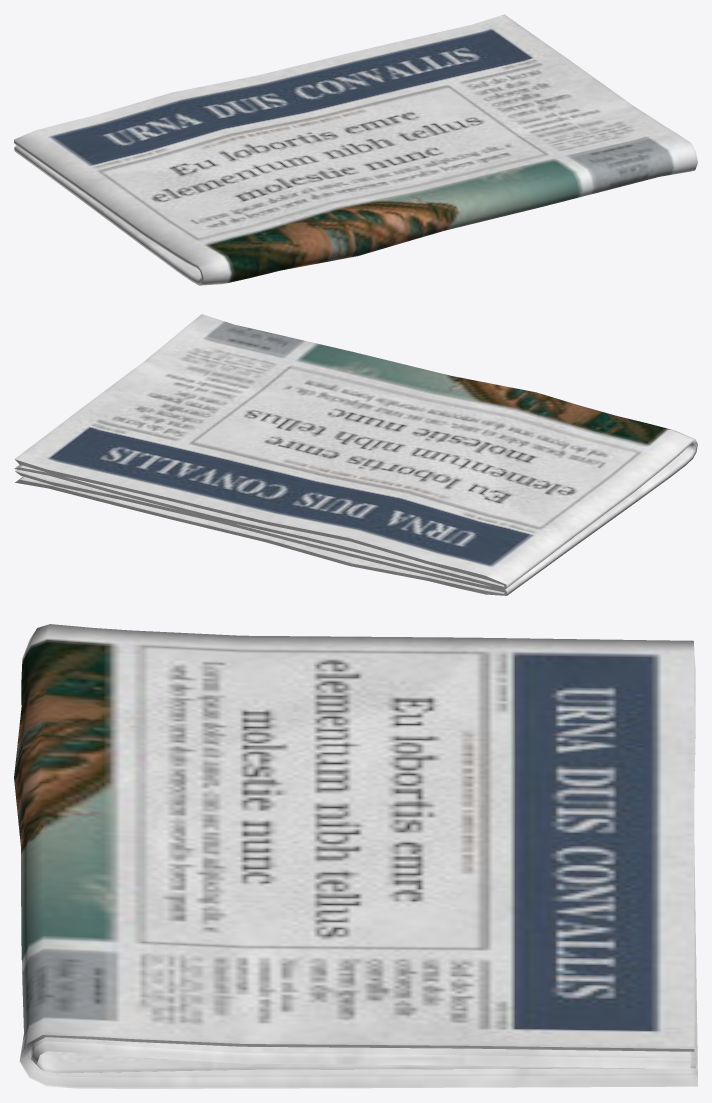
The model's file is foldedNewspaper.obj.
3 renders of one model, top to bottom at view 1: azimuth 30°, elevation 25°; view 2: azimuth 150°, elevation 25°; view 3: azimuth 270°, elevation 25°, orthographic. The views are drawn at different scales.
Parts seen in each view (by area): view 1: JournauxCourbe; view 2: JournauxCourbe; view 3: JournauxCourbe.
Part boxes in pixels (x1,y1,x2,y2): JournauxCourbe: (14, 14, 697, 285); JournauxCourbe: (14, 314, 697, 595); JournauxCourbe: (14, 624, 697, 1088).
Size of the model in its own units: 29.31 by 2.07 by 20.2.
1 material, 1 textured.
